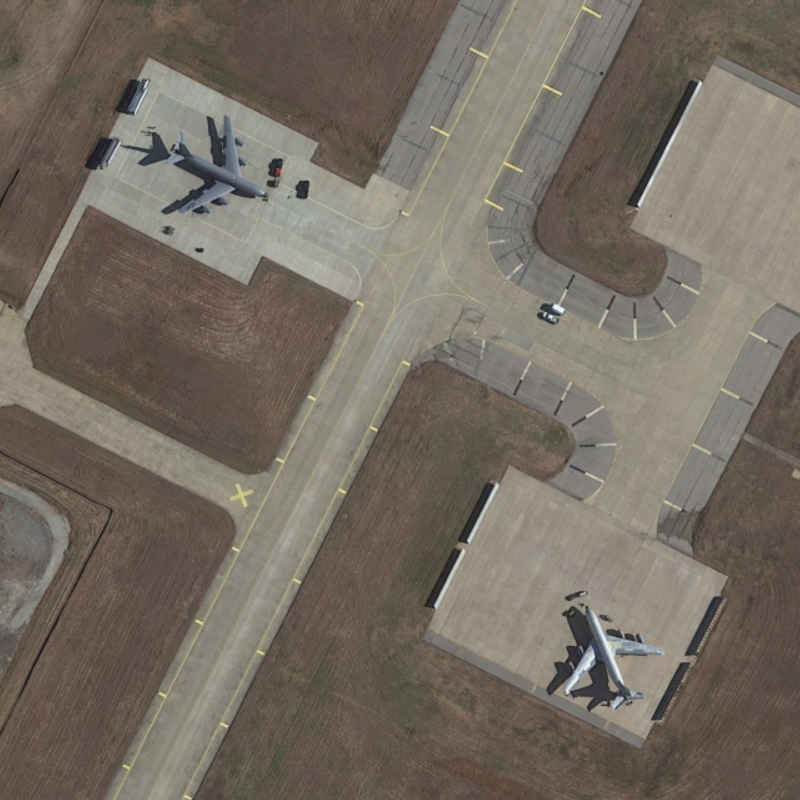A11: (556, 596, 672, 716)
A14: (159, 112, 278, 221)
